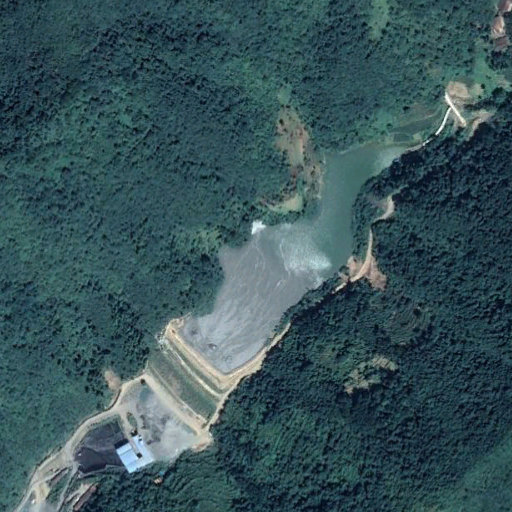tp: (145, 130, 418, 425)
